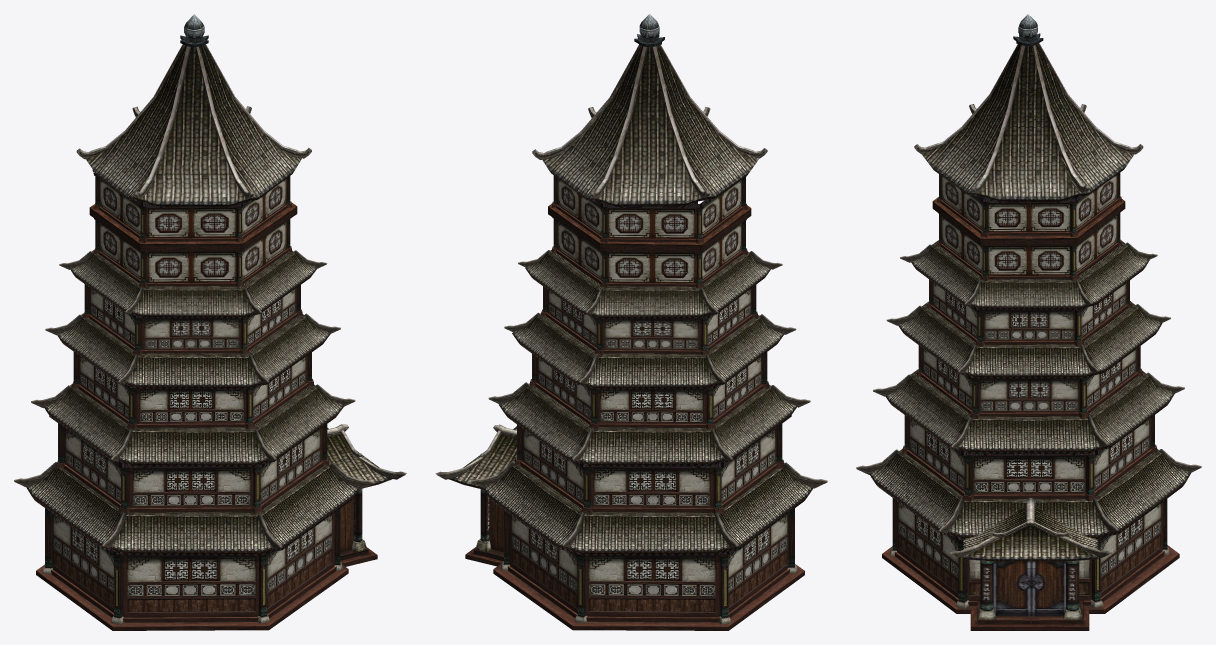
The model's file is b1-013-6tower.glb.
The picture shows the model from 3 angles, left to right: view 1: azimuth 30°, elevation 25°; view 2: azimuth 150°, elevation 25°; view 3: azimuth 270°, elevation 25°; orthographic projection. The views are drawn at different scales.
Parts seen in each view (by area): view 1: b1-013-6tower-01, b1-013-6tower-02; view 2: b1-013-6tower-01, b1-013-6tower-02; view 3: b1-013-6tower-01, b1-013-6tower-02.
Boxes of the visible parts, x1,y1,x2,y2 form: b1-013-6tower-01: [45, 14, 377, 618]; b1-013-6tower-02: [14, 170, 406, 630]; b1-013-6tower-01: [465, 14, 794, 618]; b1-013-6tower-02: [435, 199, 827, 630]; b1-013-6tower-01: [892, 14, 1167, 630]; b1-013-6tower-02: [856, 196, 1201, 624].
Size of the model in its own units: 15.6 by 27.14 by 15.61.
Materials: 2 (2 with a texture image).
